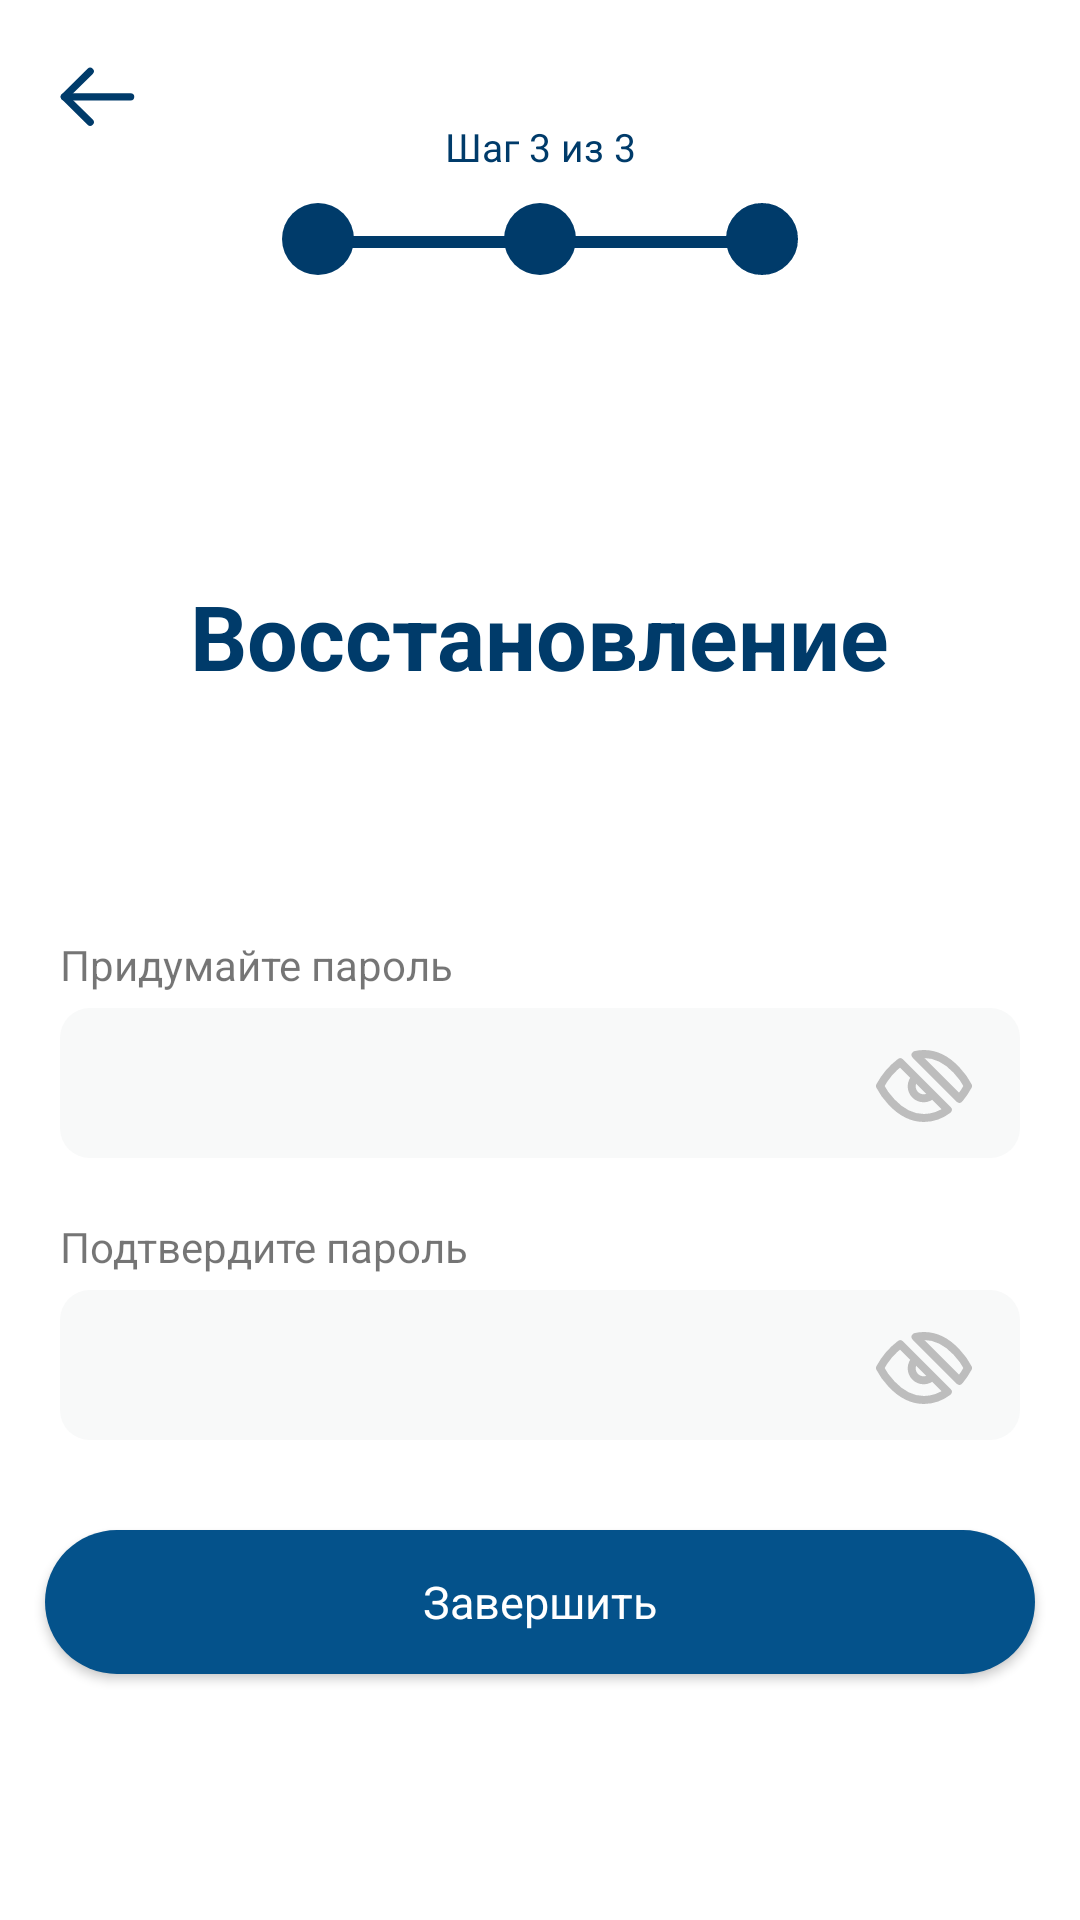

Icons on this 1080*1920 Android screen, each with its box as (x1, y1, x2, y2):
back cursor: (60, 67, 135, 126)
show hide: (876, 1050, 972, 1122), (876, 1332, 972, 1404)
